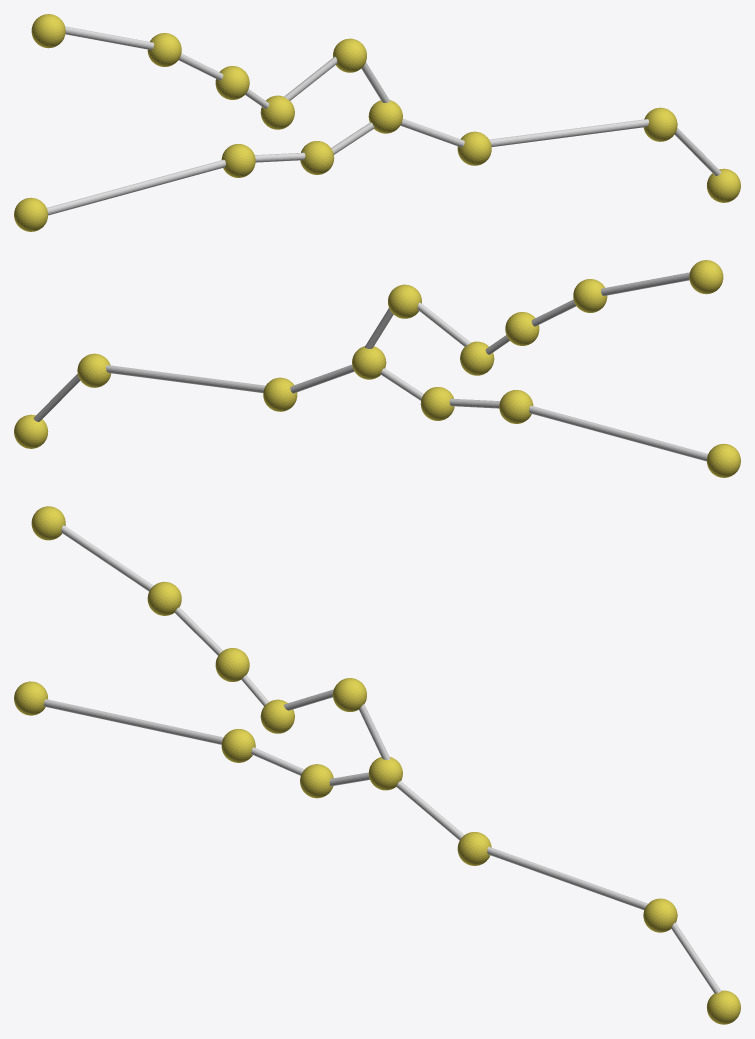
File: taurus.glb
3 renders of one model, top to bottom at view 1: azimuth 30°, elevation 25°; view 2: azimuth 150°, elevation 25°; view 3: azimuth 330°, elevation 25°, orthographic.
Parts seen in each view (by area): view 1: Mesh_Mesh_head_geo.001_lambert2SG.001; view 2: Mesh_Mesh_head_geo.001_lambert2SG.001; view 3: Mesh_Mesh_head_geo.001_lambert2SG.001.
Part boxes in pixels (<box>): Mesh_Mesh_head_geo.001_lambert2SG.001: <box>14,14,740,231</box>; Mesh_Mesh_head_geo.001_lambert2SG.001: <box>14,260,740,477</box>; Mesh_Mesh_head_geo.001_lambert2SG.001: <box>14,506,740,1024</box>.
Size of the model in its own units: 244 by 113 by 10.
